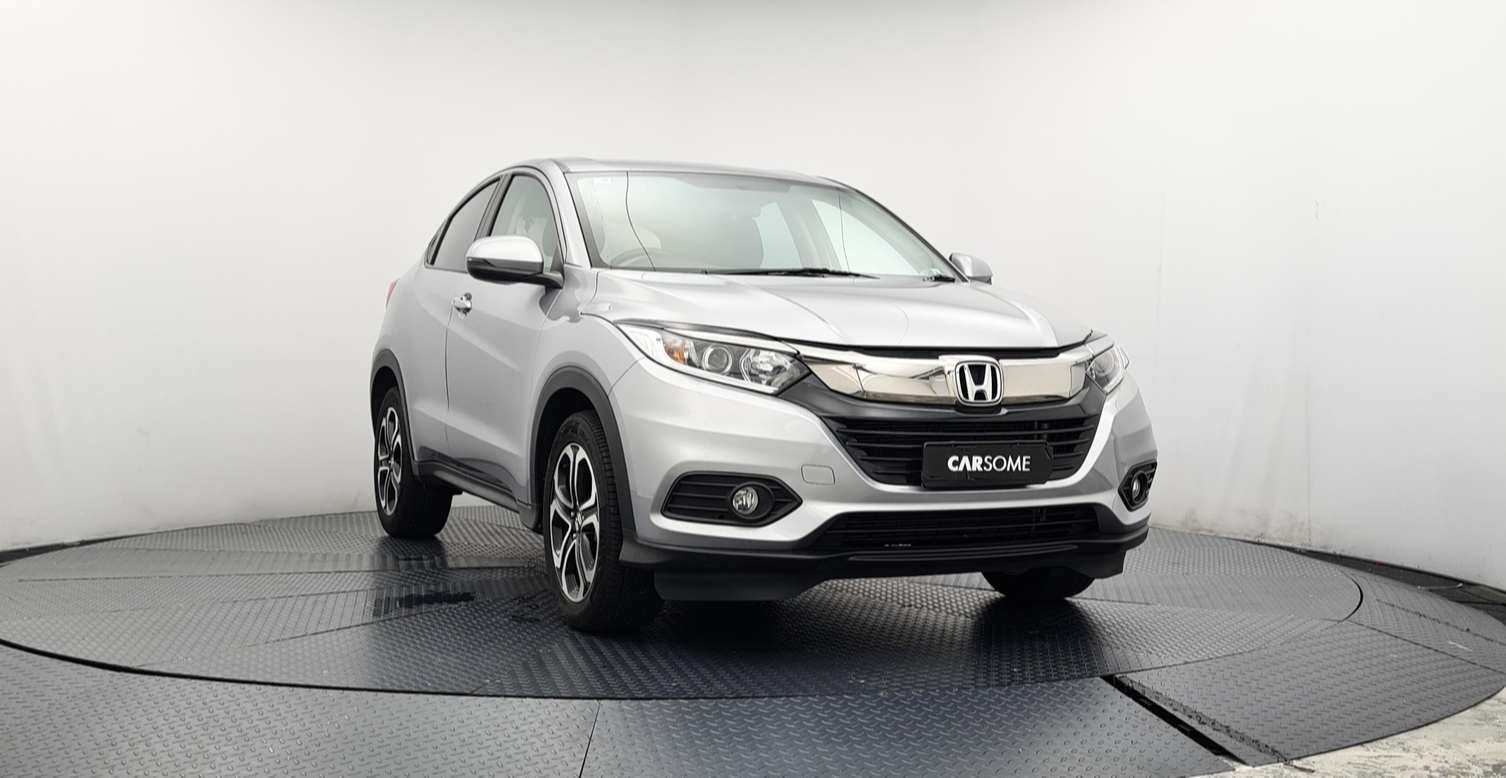Car hood: (580, 265, 1096, 353)
Driver-s door - -F-R-: (448, 163, 552, 508)
Fender - -F-R-: (525, 262, 647, 507)
Fender - -R-R-: (379, 292, 407, 391)
Front bumper: (611, 383, 1178, 586)
Headlight - -L-: (1074, 337, 1140, 396)
Headlight - -R-: (608, 310, 814, 401)
Passenger-s door - -R-R-: (405, 167, 475, 466)
Rear bumper: (357, 346, 386, 440)
Rear light - -R-: (378, 264, 400, 309)
Side bumper - -R-: (401, 432, 547, 540)
Side mirror - -L-: (940, 243, 1005, 290)
Side mirror - -R-: (459, 228, 564, 298)
